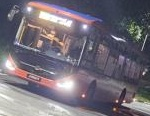bus: (37, 10, 50, 21)
